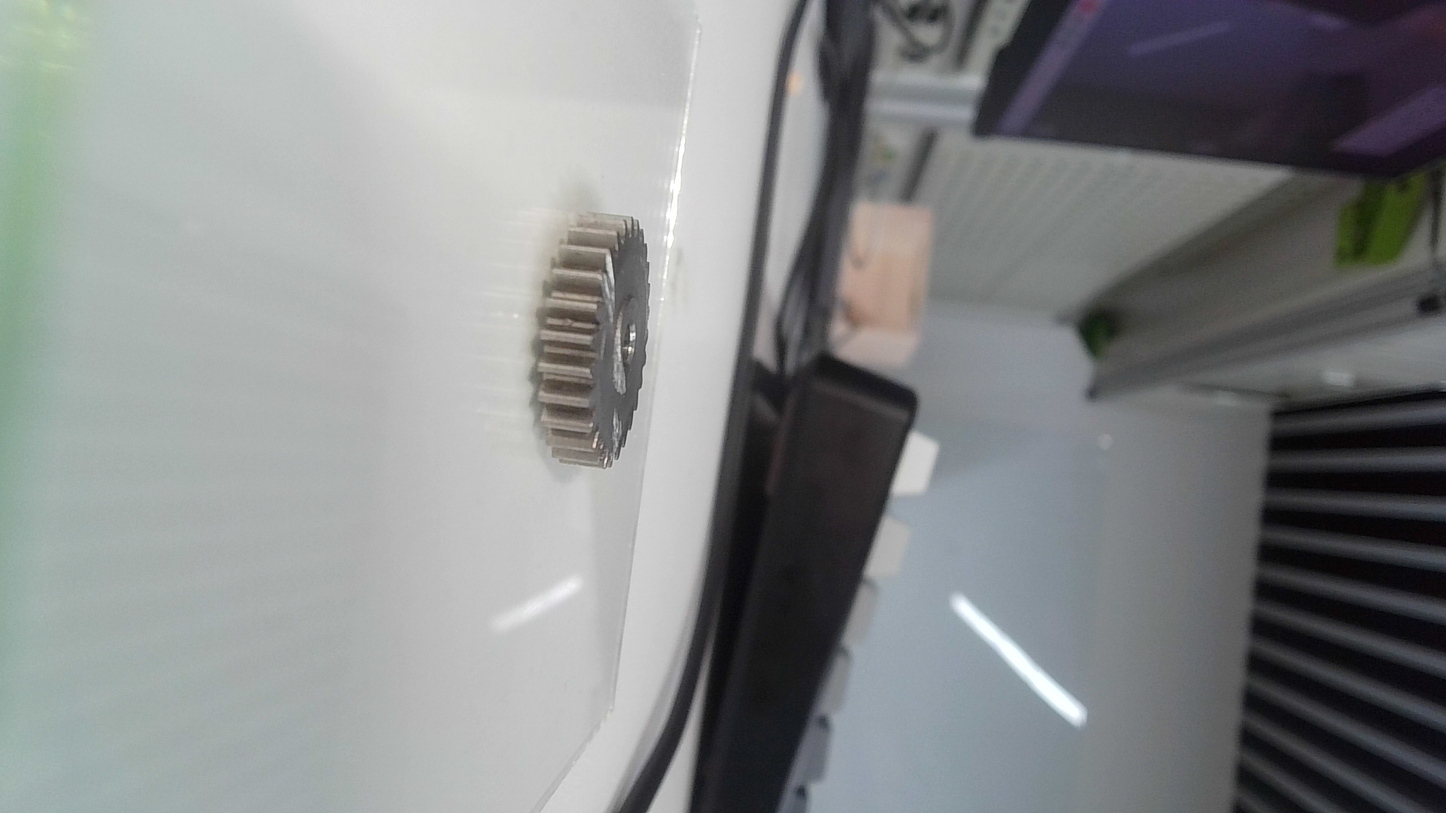gear: (522, 211, 658, 479)
